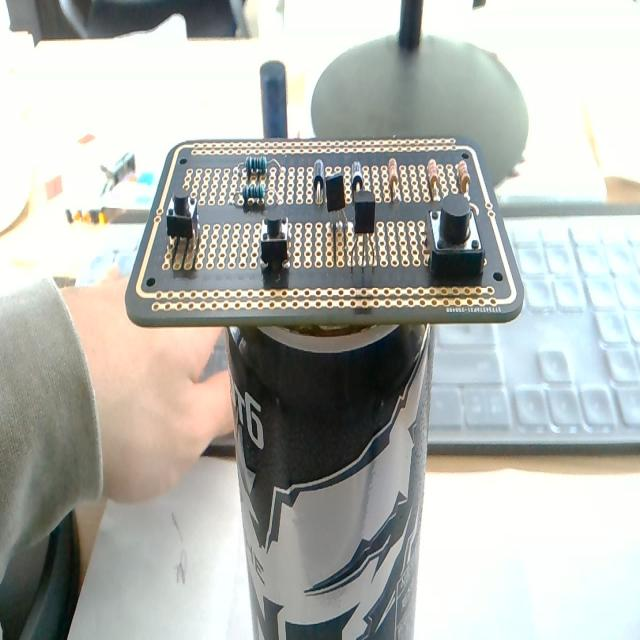diode: (308, 156, 328, 206)
resistor: (236, 178, 276, 204), (451, 154, 473, 198), (240, 151, 272, 179), (423, 152, 440, 200), (386, 158, 402, 205)
switch: (421, 200, 491, 283), (254, 210, 294, 276), (166, 190, 199, 248)
transistor: (351, 188, 387, 282), (323, 170, 351, 243)
